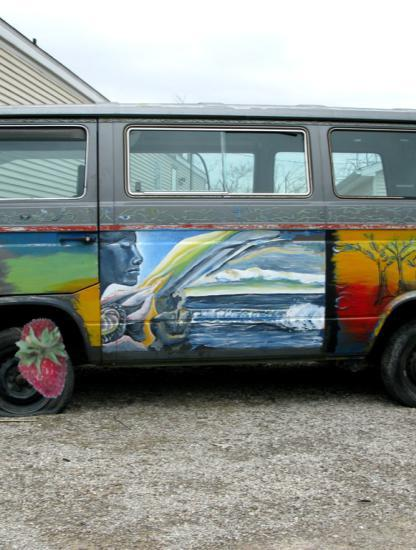Strawberry: (1, 318, 84, 401)
